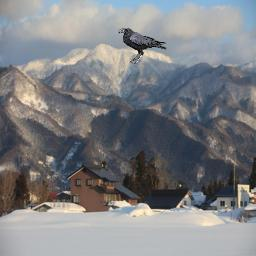Crow: (118, 28, 167, 64)
